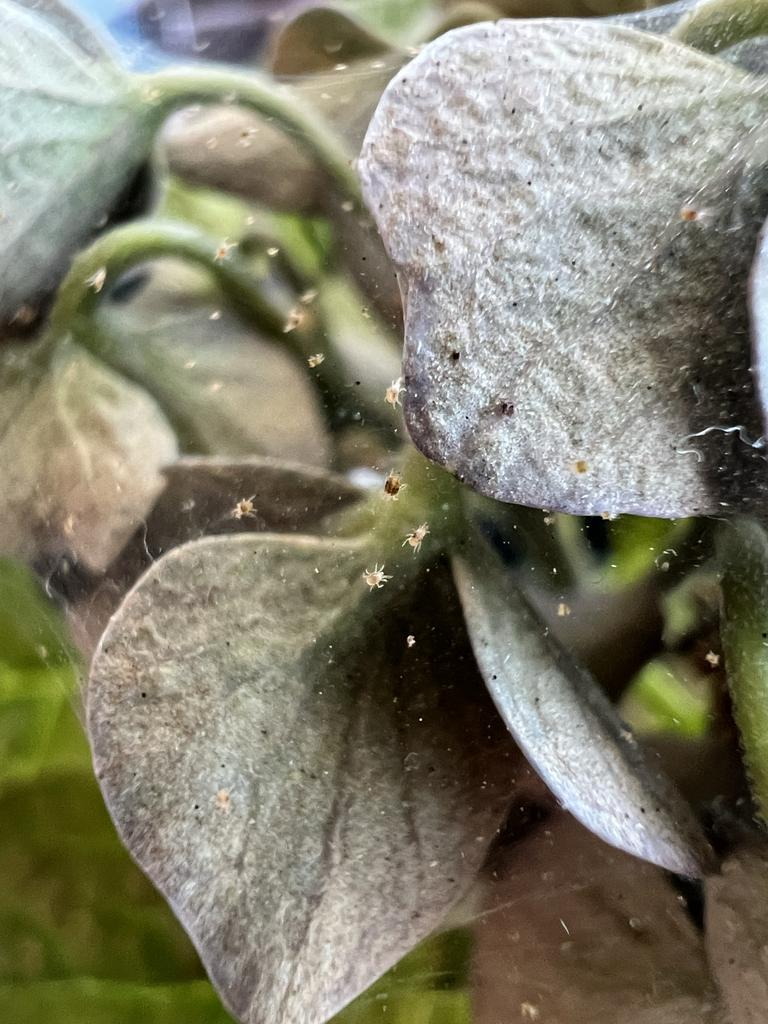tiny_pests: (393, 508, 446, 564), (225, 481, 272, 529), (351, 552, 398, 596), (374, 465, 414, 505)
